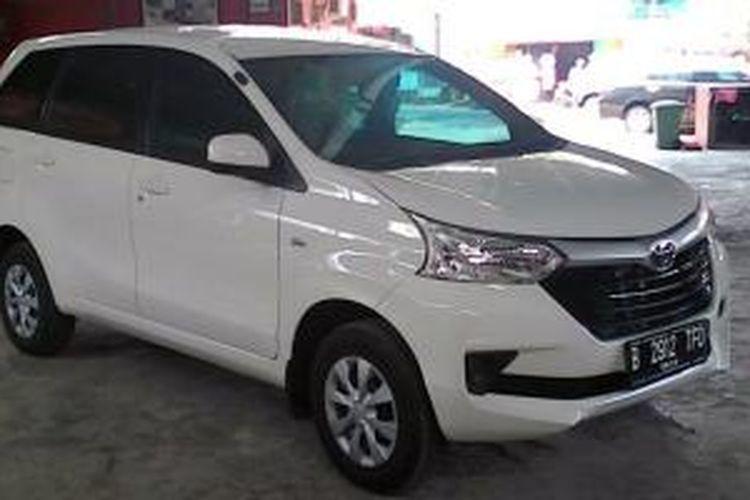plate: (625, 320, 710, 389)
